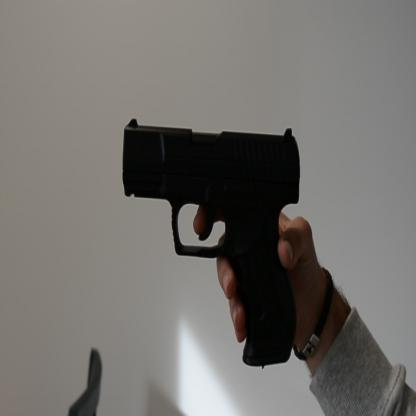gun: (121, 115, 301, 370)
